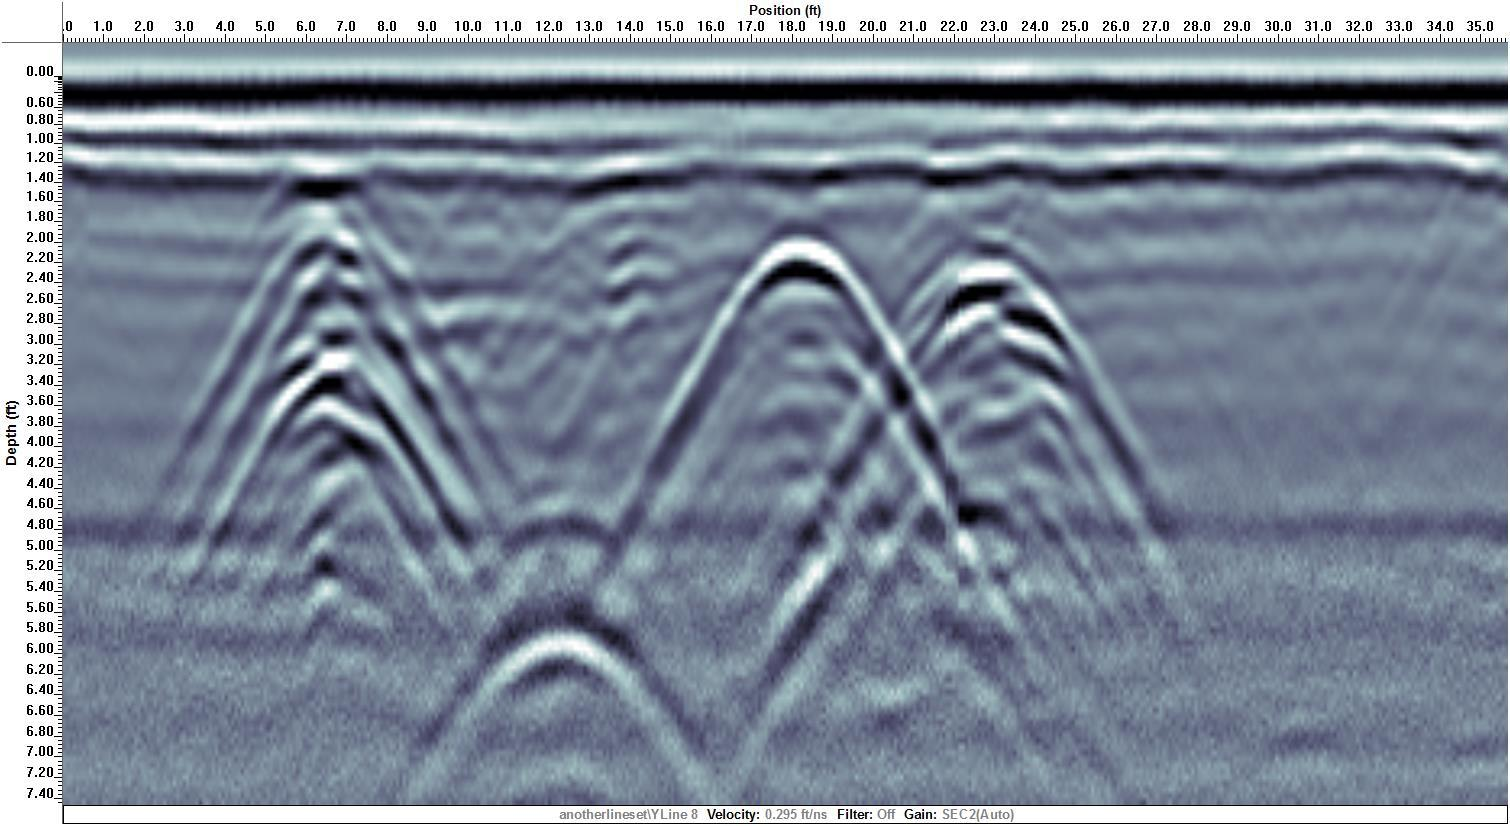hyperbola: (665, 203, 942, 535), (859, 230, 1120, 544), (219, 195, 437, 545), (440, 580, 680, 761)
